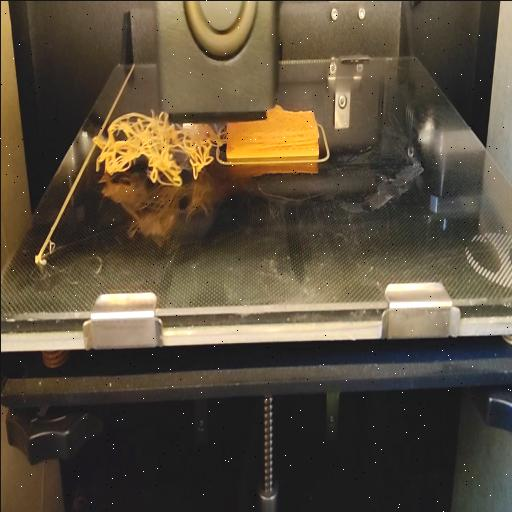spaghetti: (92, 112, 216, 188)
